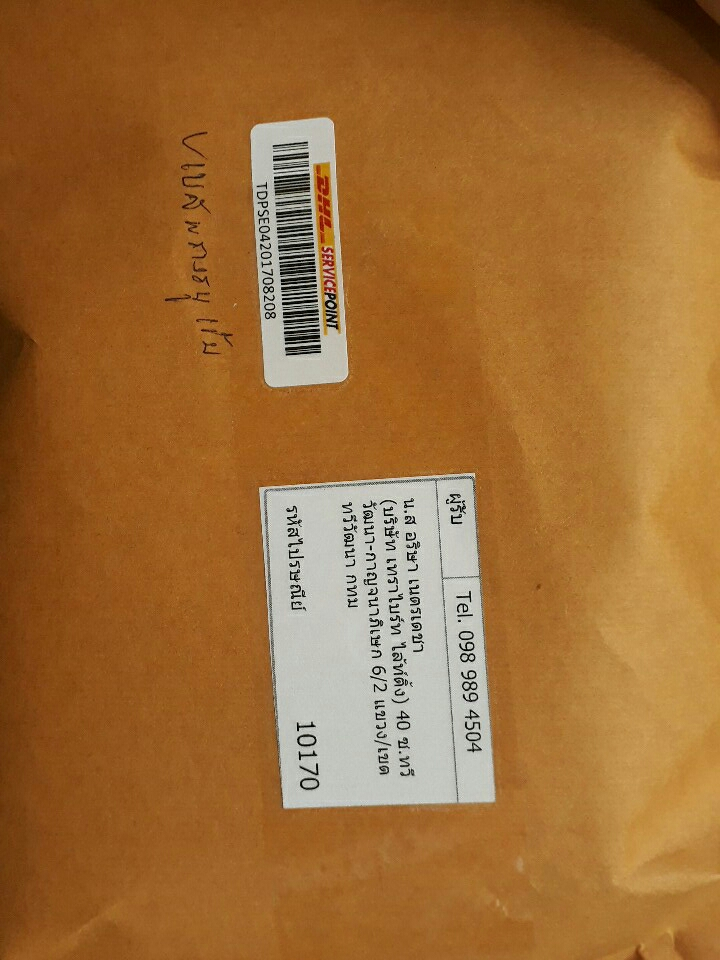ba: (245, 107, 359, 397)
txt: (282, 485, 487, 807)
